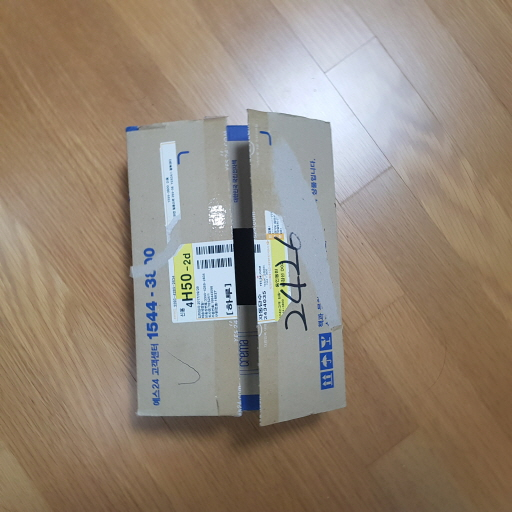Paper_0: (118, 110, 361, 431)
